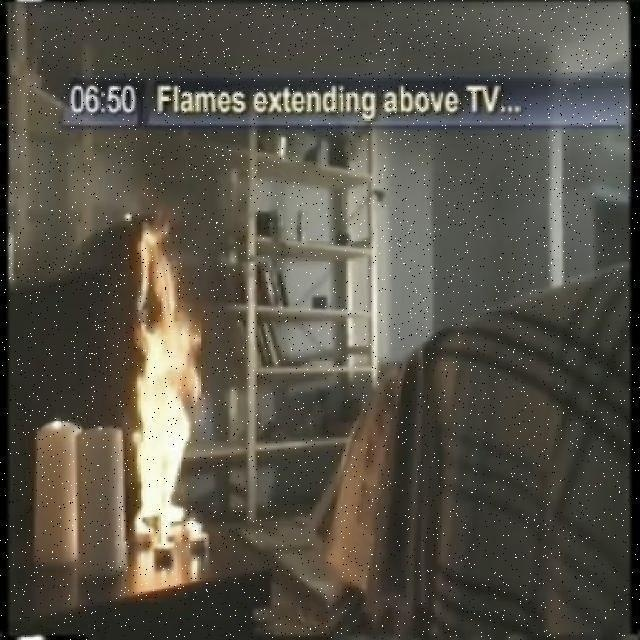fire: (113, 207, 219, 570)
